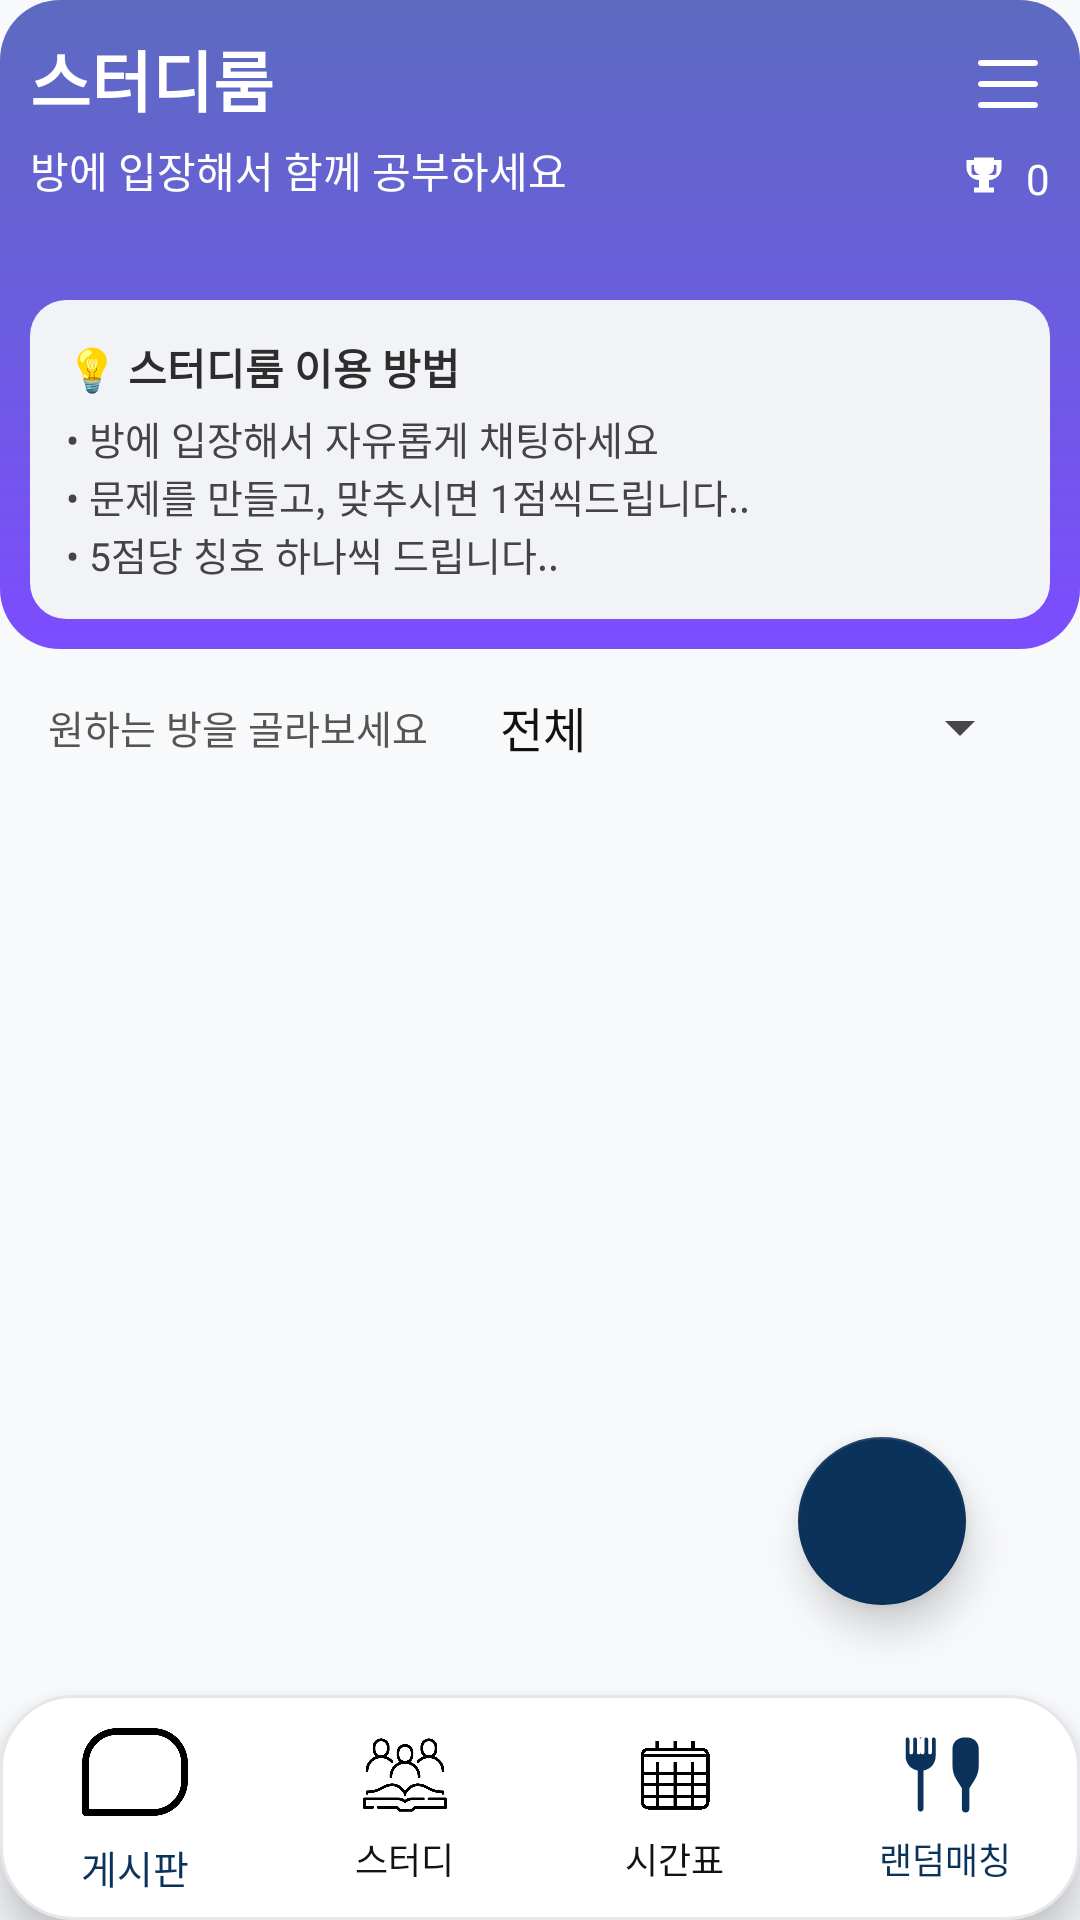

Named icons in this screenshot (1080*1920) and their centers, [x,y]:
trophy: [984,175]
utensils: [942,1775]
메뉴: [1008,84]
